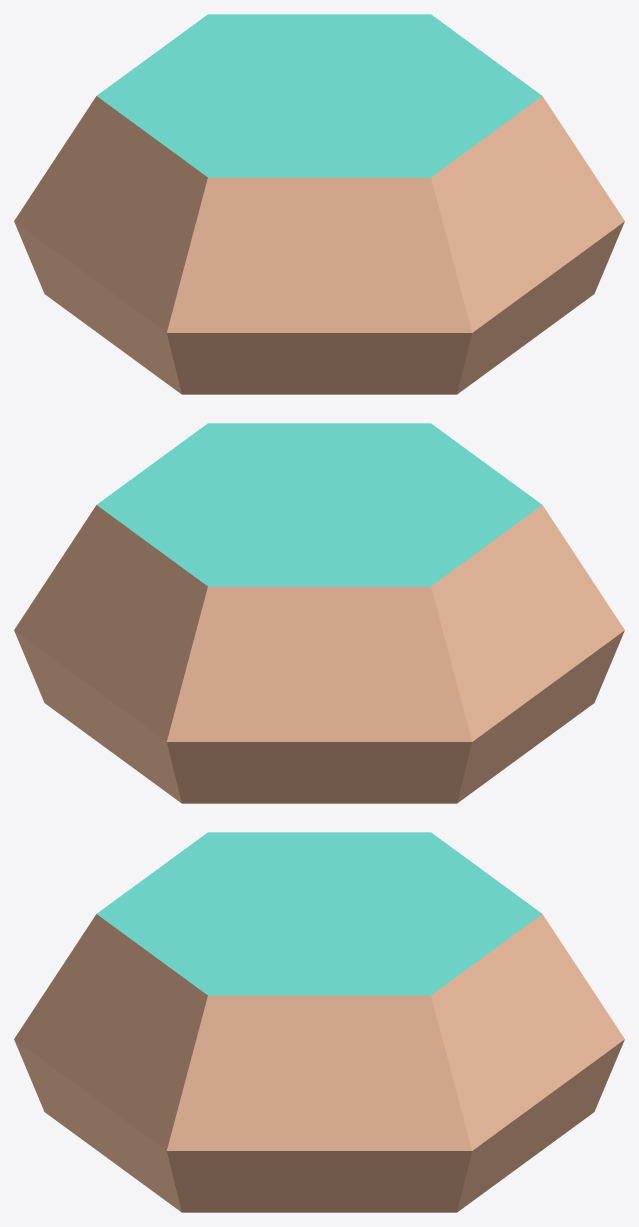
File: rock_smallg.glb
3 views of the same model, one above another, from view 1: azimuth 30°, elevation 25°; view 2: azimuth 150°, elevation 25°; view 3: azimuth 270°, elevation 25° (orthographic).
Parts seen in each view (by area): view 1: rock_smallG; view 2: rock_smallG; view 3: rock_smallG.
Part boxes in pixels (left/top/right/bottom): rock_smallG: left=14, top=14, right=624, bottom=394; rock_smallG: left=14, top=423, right=624, bottom=803; rock_smallG: left=14, top=832, right=624, bottom=1212.
Size of the model in its own units: 0.5937 by 0.2453 by 0.6855.
